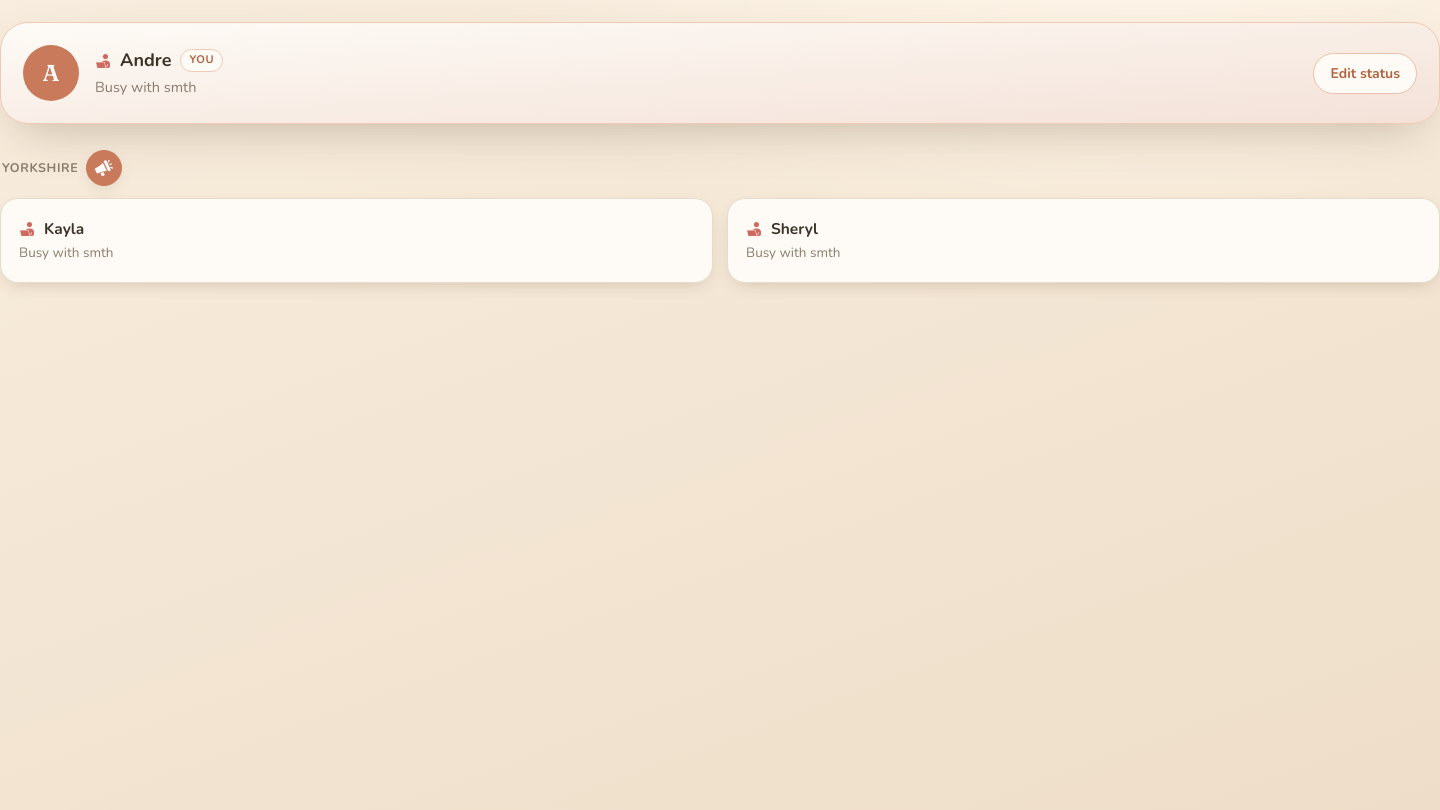
HouseholdRoster › pokes a roommate through the card's modal
Click the button "Kayla Busy with smth" at (64, 228), box [0, 198, 713, 282]
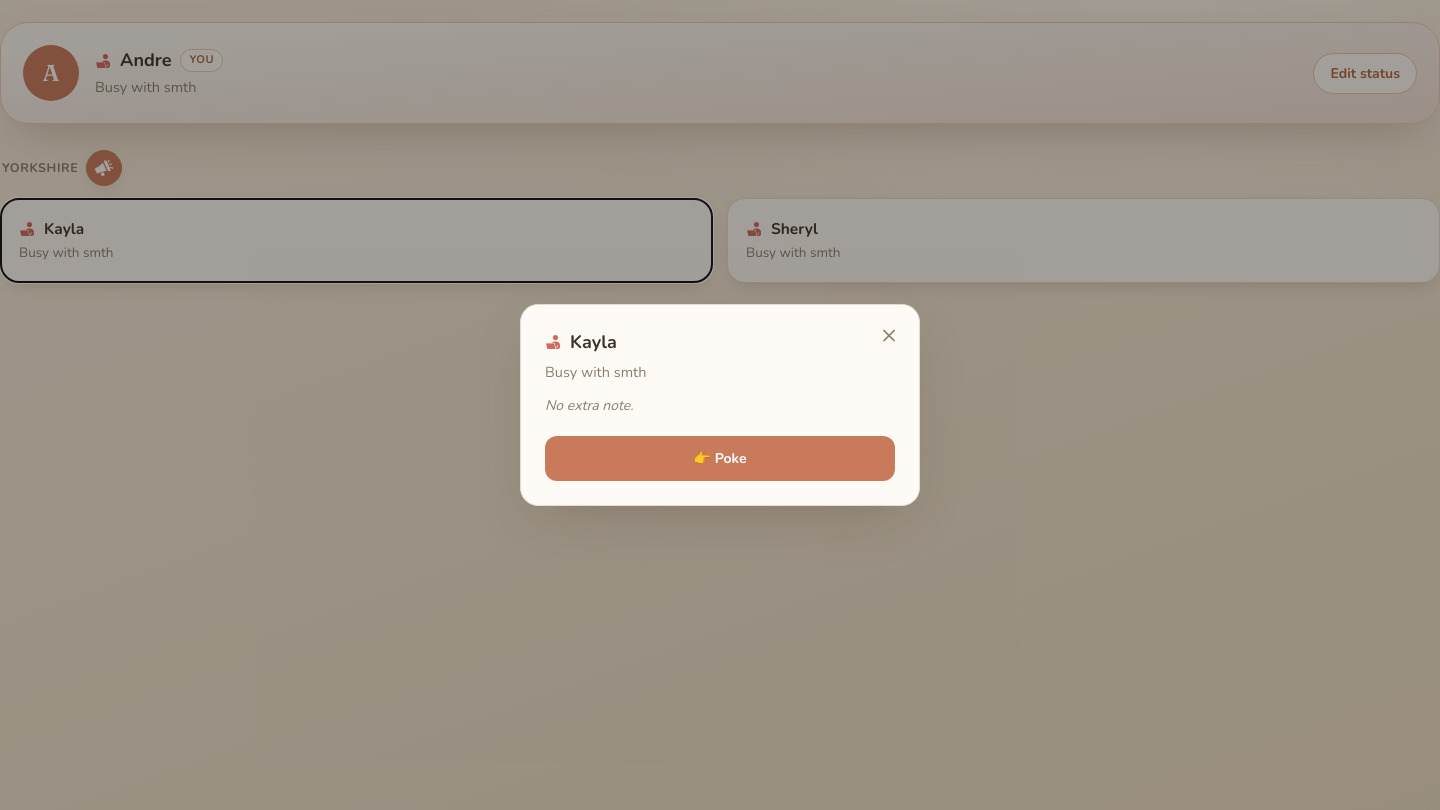
Click the button "👉 Poke" at (720, 459), box [545, 436, 895, 481]
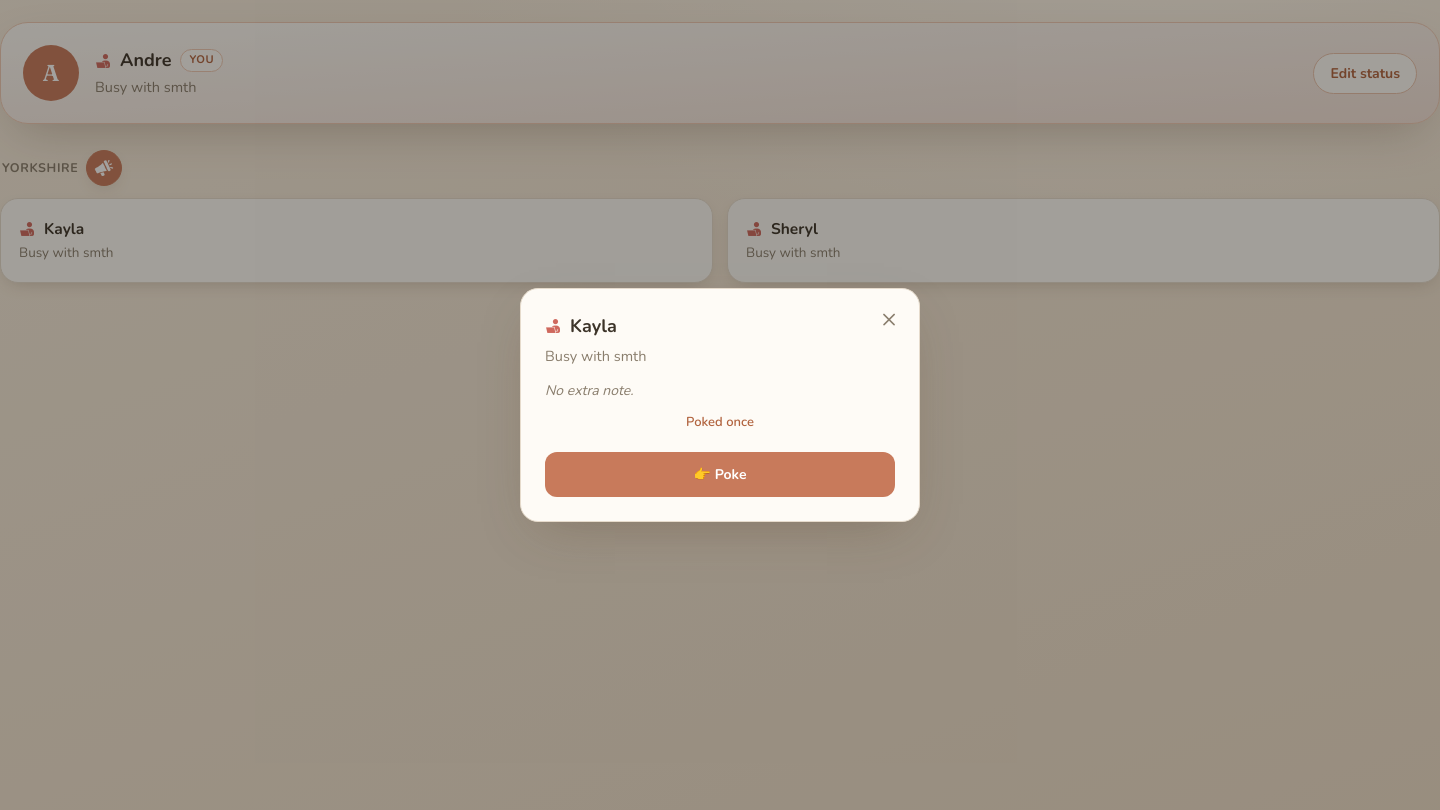
Expected: the text "Poked once" is shown, [686, 413, 754, 431]
